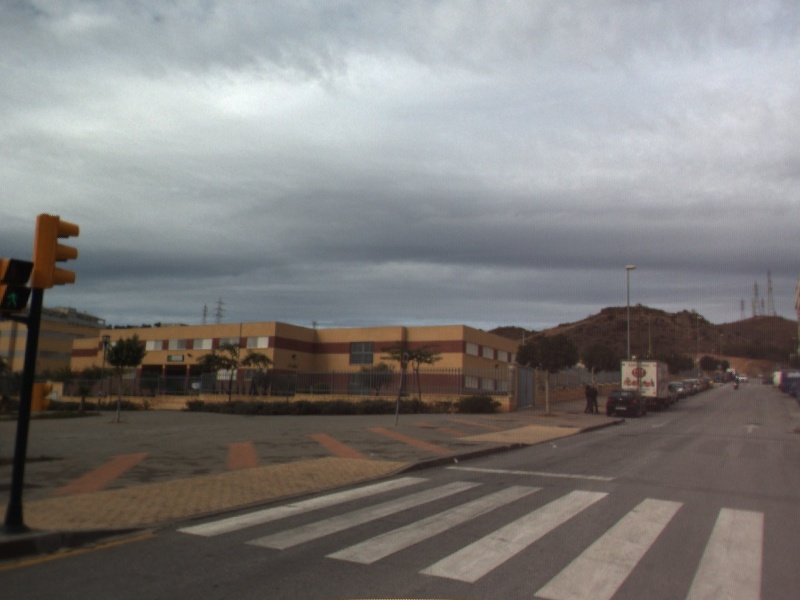STRAIGHT: (741, 422, 762, 435)
